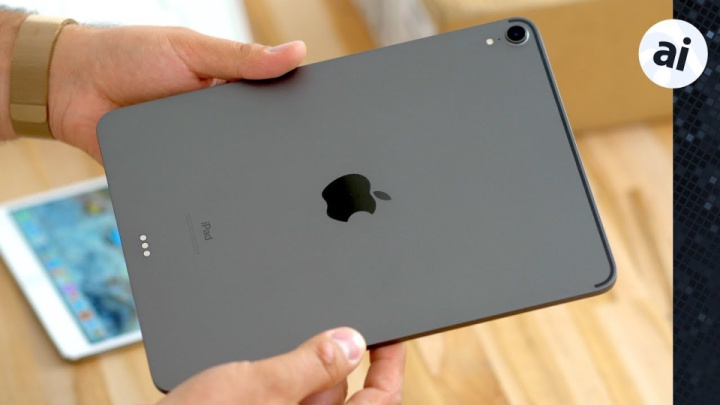apple: (318, 160, 411, 246)
